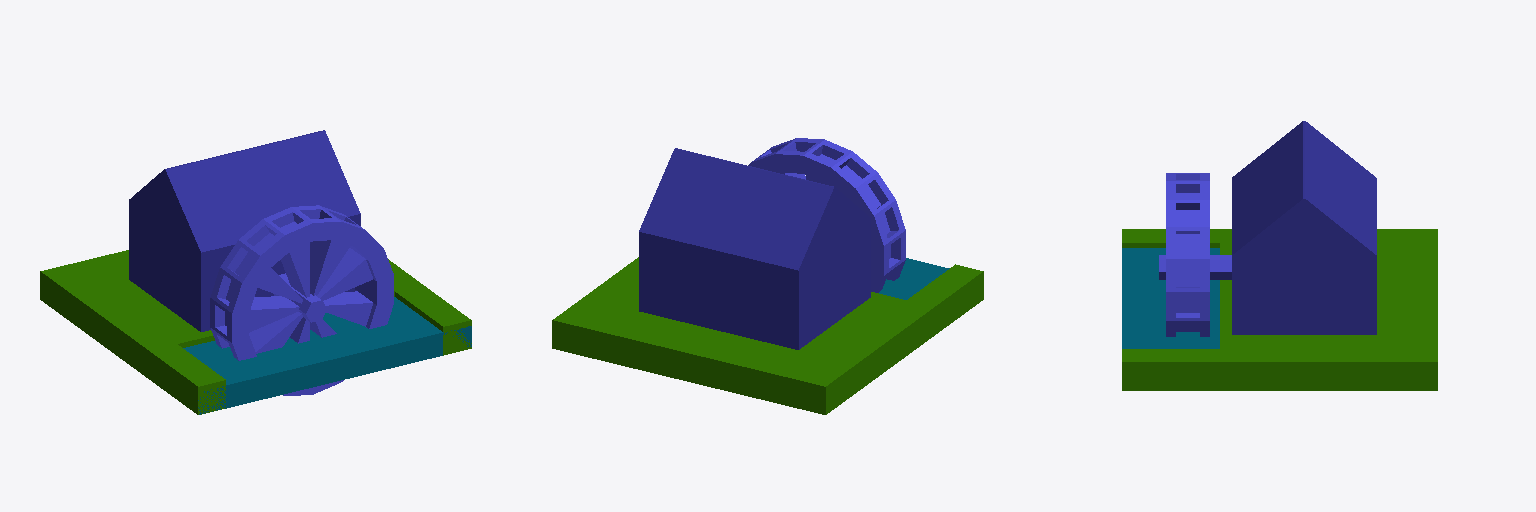
Rendered from Grinder3.obj.
3 renders of one model, left to right at view 1: azimuth 30°, elevation 25°; view 2: azimuth 150°, elevation 25°; view 3: azimuth 270°, elevation 25°, orthographic.
Visible parts, largest first — view 1: Box923, Mill003, Tilebase133, Tilebase134, Cylinder140; view 2: Box923, Tilebase133, Mill003, Tilebase134; view 3: Box923, Tilebase133, Mill003, Tilebase134, Cylinder140.
Part boxes in pixels (bbox=[...]): Box923: bbox=[129, 130, 360, 331]; Mill003: bbox=[210, 205, 393, 395]; Tilebase133: bbox=[40, 250, 471, 414]; Tilebase134: bbox=[183, 297, 471, 414]; Cylinder140: bbox=[274, 273, 326, 322]; Box923: bbox=[639, 148, 870, 349]; Tilebase133: bbox=[552, 257, 983, 414]; Mill003: bbox=[748, 138, 905, 292]; Tilebase134: bbox=[879, 258, 949, 299]; Box923: bbox=[1232, 121, 1376, 334]; Tilebase133: bbox=[1122, 229, 1437, 390]; Mill003: bbox=[1166, 173, 1209, 336]; Tilebase134: bbox=[1122, 248, 1219, 348]; Cylinder140: bbox=[1159, 255, 1231, 279].
Bounding box in the file's own units: 10 × 6.78 × 10.